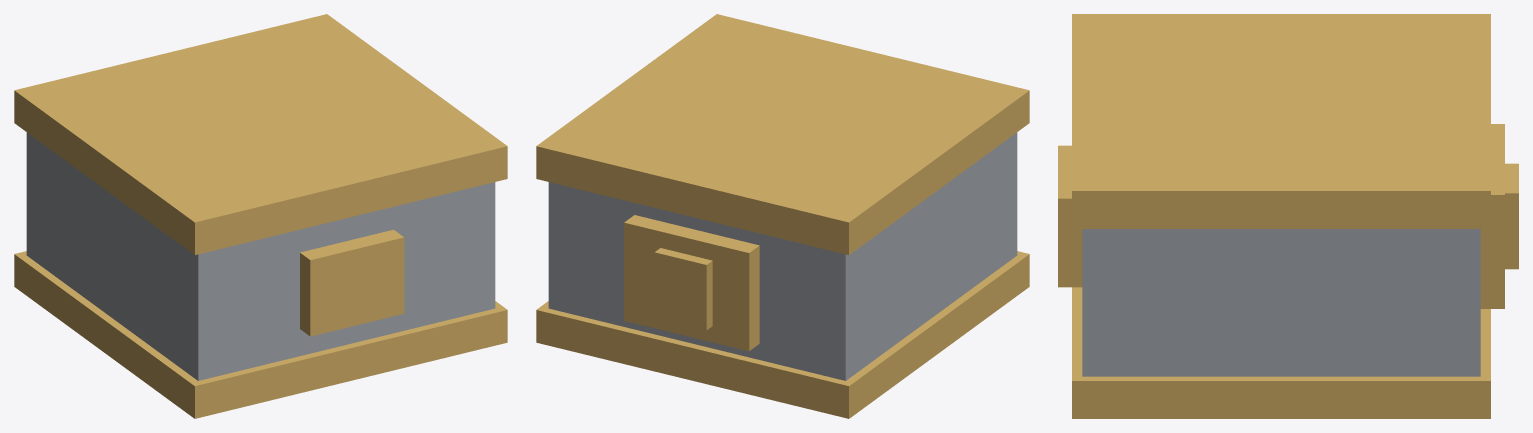
File: bracadeiras_metal.glb
3 views of the same model, side by side, from view 1: azimuth 30°, elevation 25°; view 2: azimuth 150°, elevation 25°; view 3: azimuth 270°, elevation 25° (orthographic). The views are drawn at different scales.
Parts seen in each view (by area): view 1: bracadeiras_metal; view 2: bracadeiras_metal; view 3: bracadeiras_metal.
Boxes of the visible parts, box(x1,y1,x2,y2) form: bracadeiras_metal: box(14, 14, 507, 418); bracadeiras_metal: box(536, 14, 1029, 418); bracadeiras_metal: box(1058, 14, 1518, 418).
Size of the model in its own units: 0.3 by 0.18 by 0.33.
